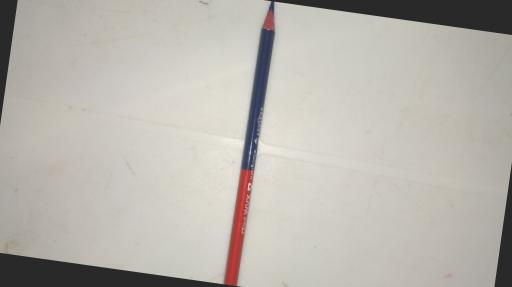Pencil: (225, 0, 279, 286)
